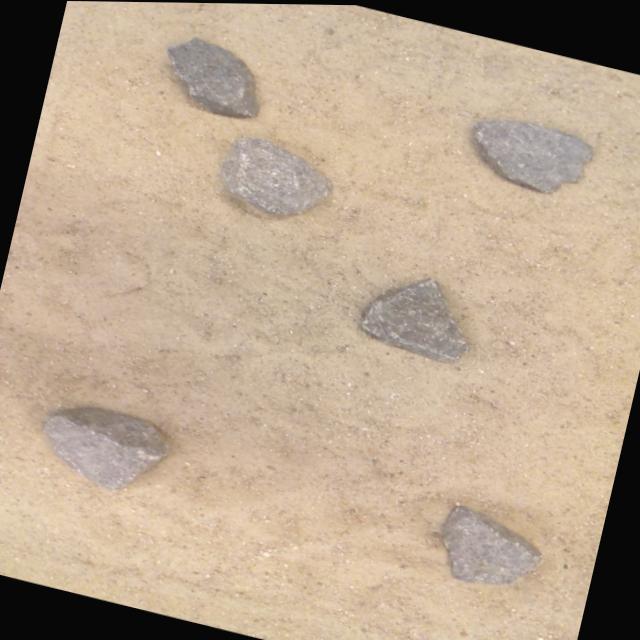rock: (43, 408, 168, 489), (361, 278, 468, 361), (473, 118, 592, 191), (220, 136, 330, 214), (442, 505, 539, 583), (167, 37, 258, 117)
